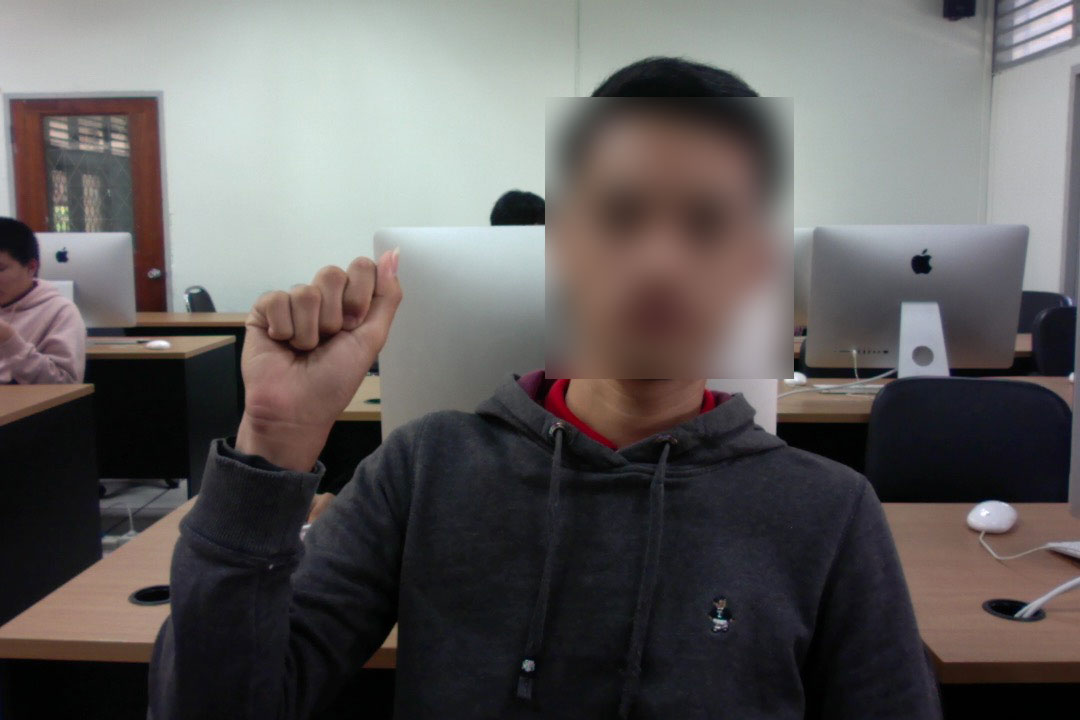or: (228, 241, 409, 443)
